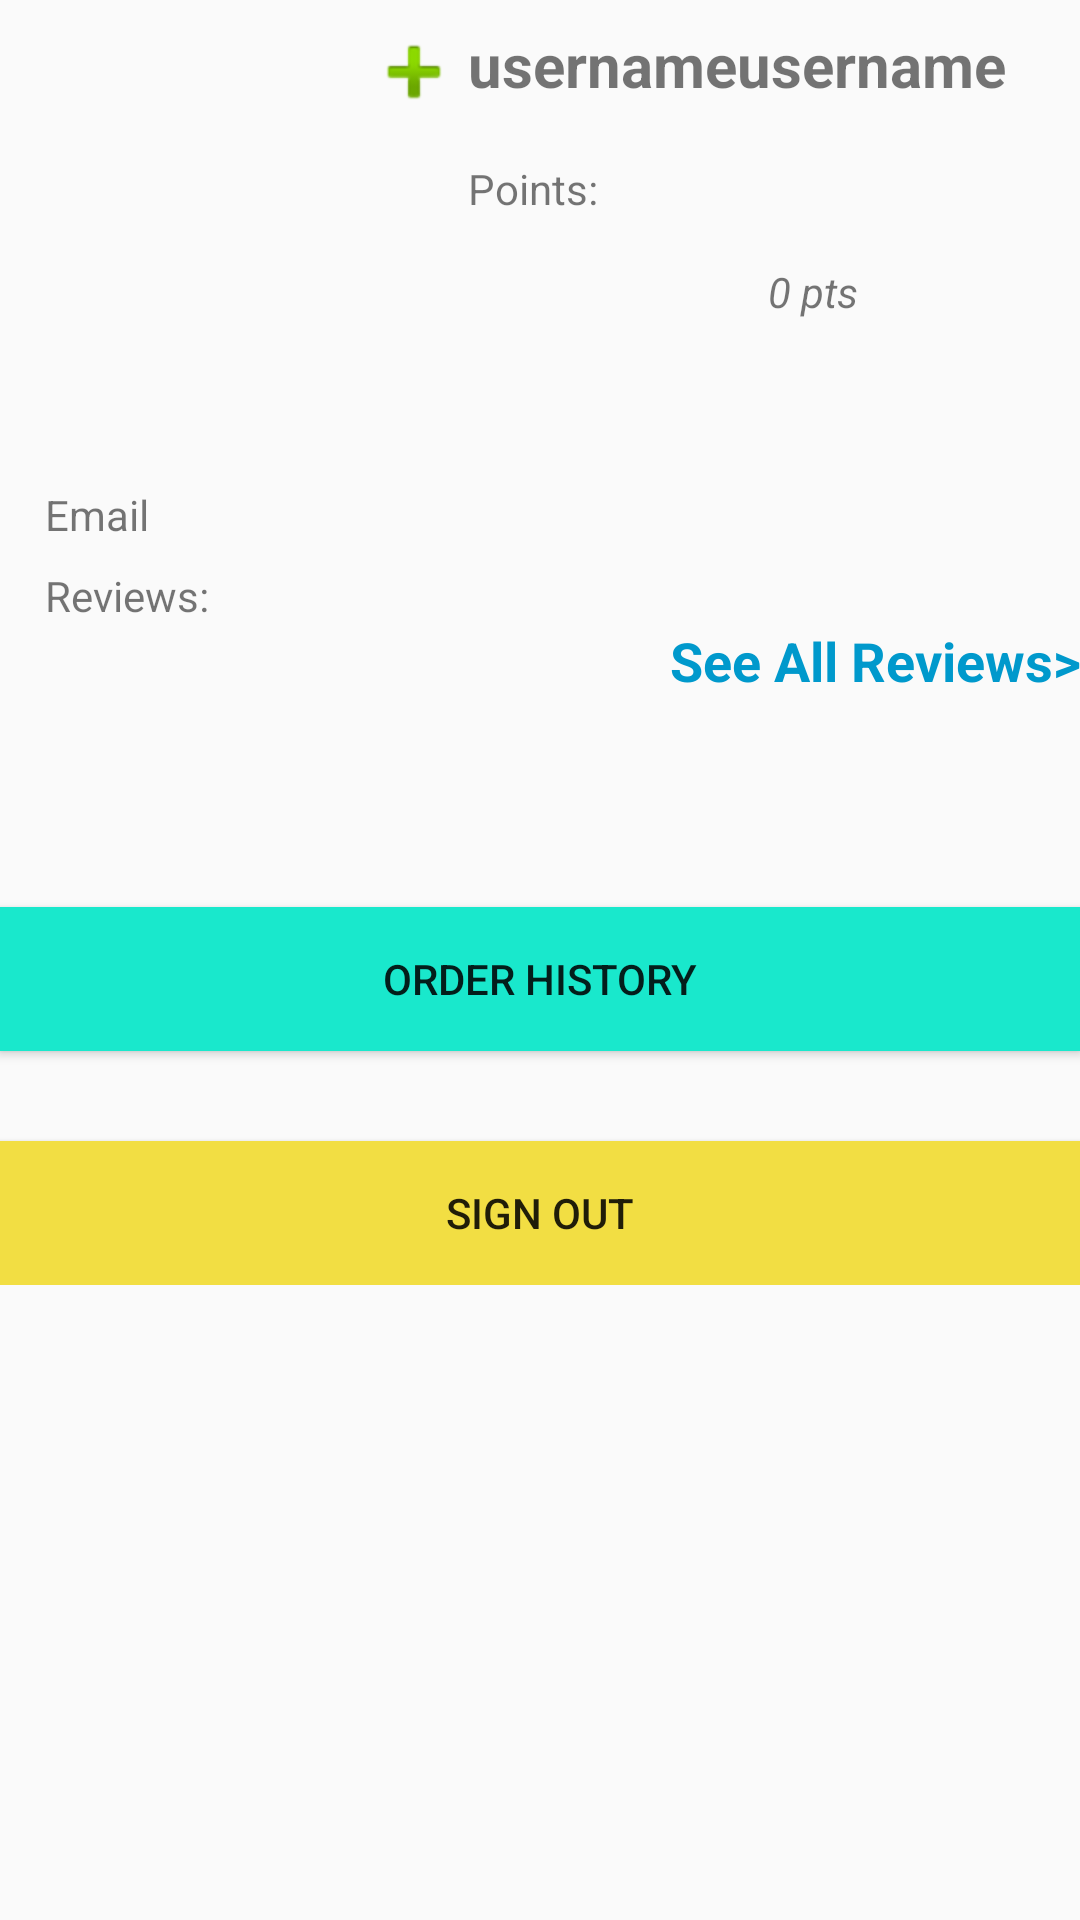

Screen size 1080px×1920px. Icon name, then its center in pixels as point (x, y):
add: point (414, 72)
